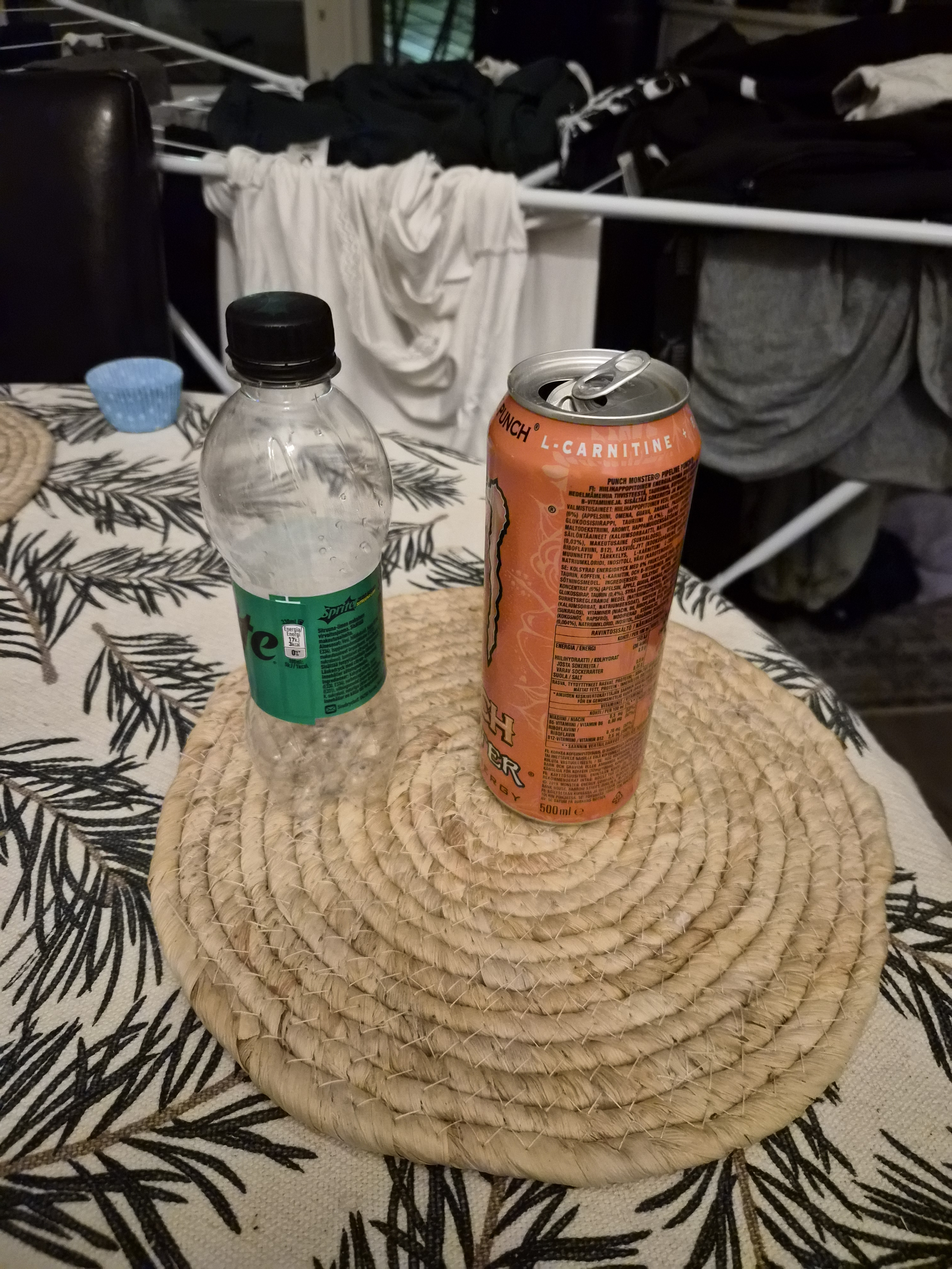Pantburk: (187, 295, 412, 819), (487, 339, 703, 829)
